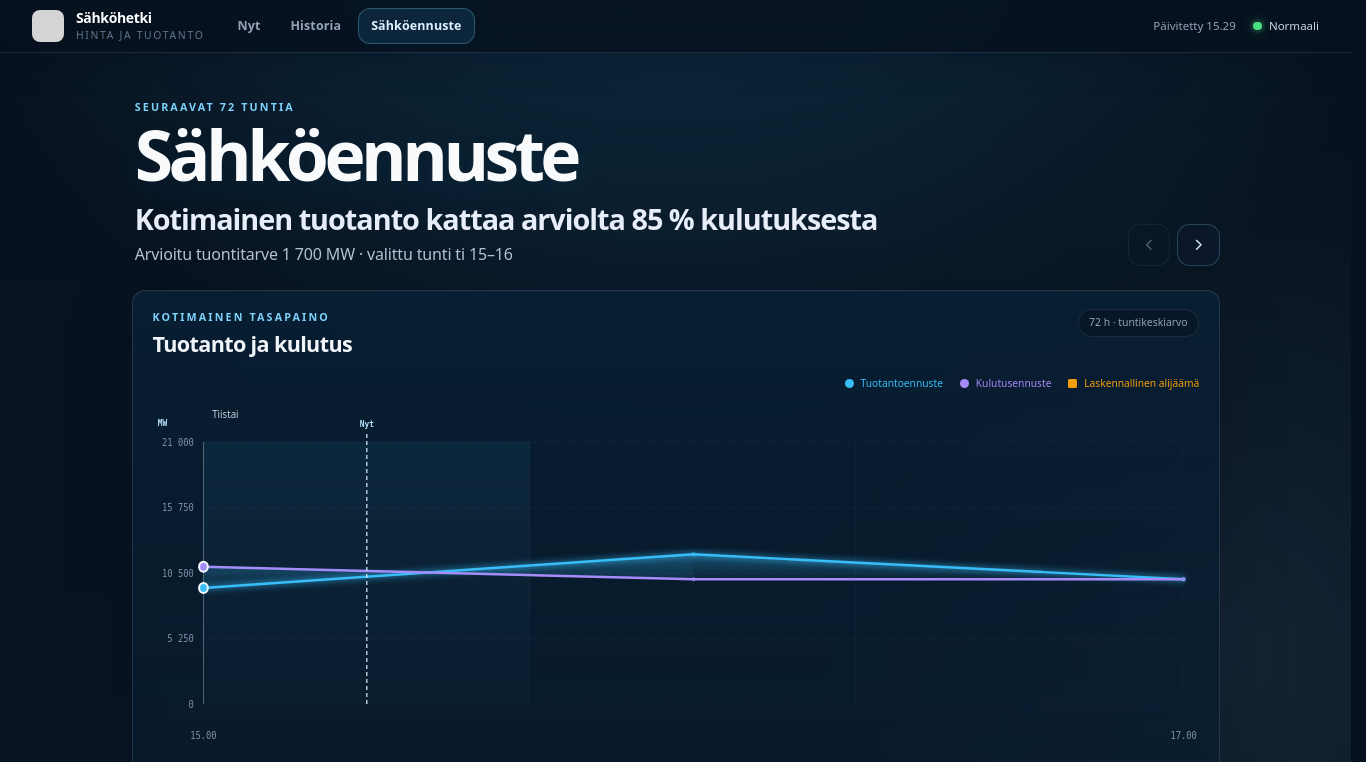
ForecastExplorer › moves between hours and changes the plain-language balance summary
The width and height of the screenshot is (1366, 762).
Click the button named "Seuraava tunti" at (1198, 245), box [1177,224,1220,266]
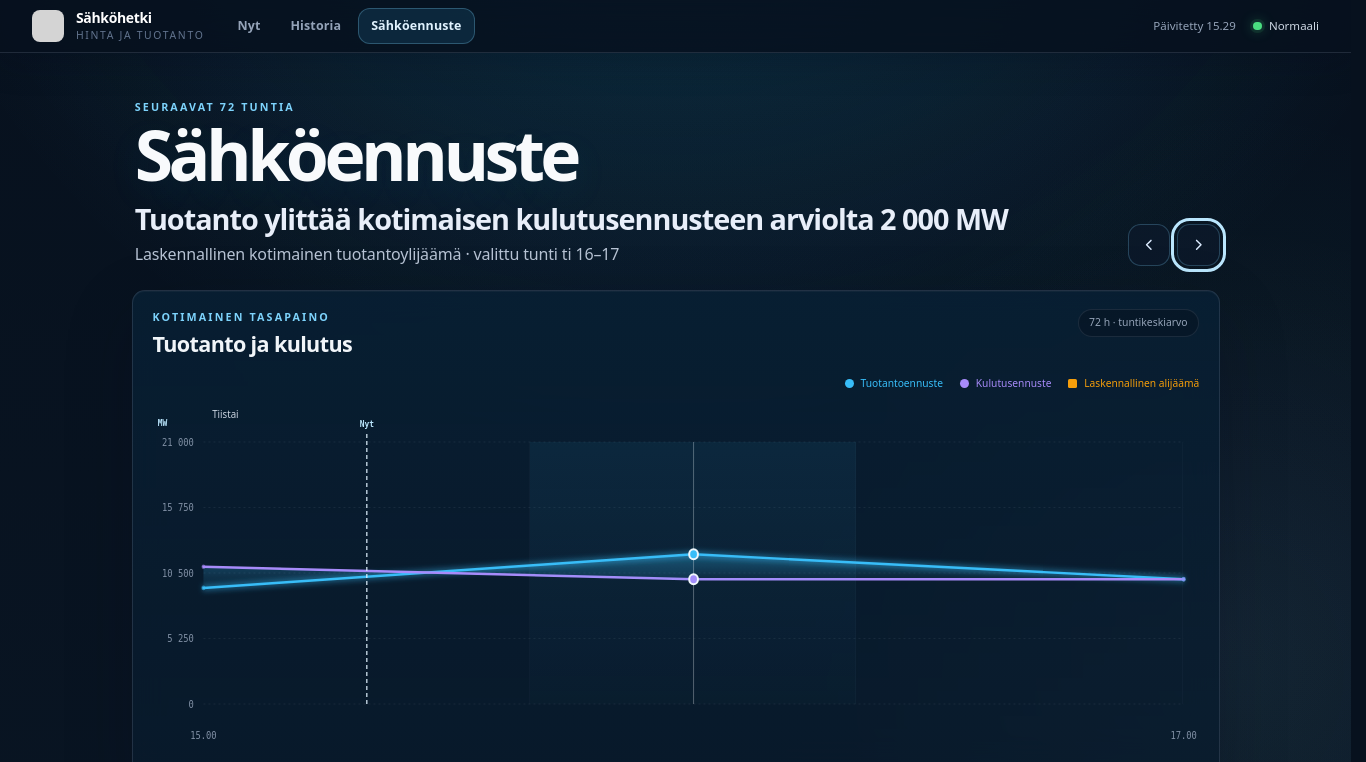
Expected: the heading "Tuotanto ylittää kotimaisen kulutusennusteen arviolta" reads "Tuotanto ylittää kotimaisen kulutusennusteen arviolta 2 000 MW", [135,199,1008,238]
Expected: the button named "Edellinen tunti" is enabled, [1128,224,1170,266]
